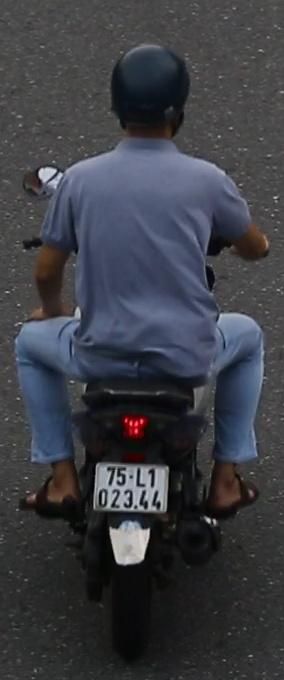LP: (90, 458, 173, 519)
helmet: (104, 38, 195, 158)
